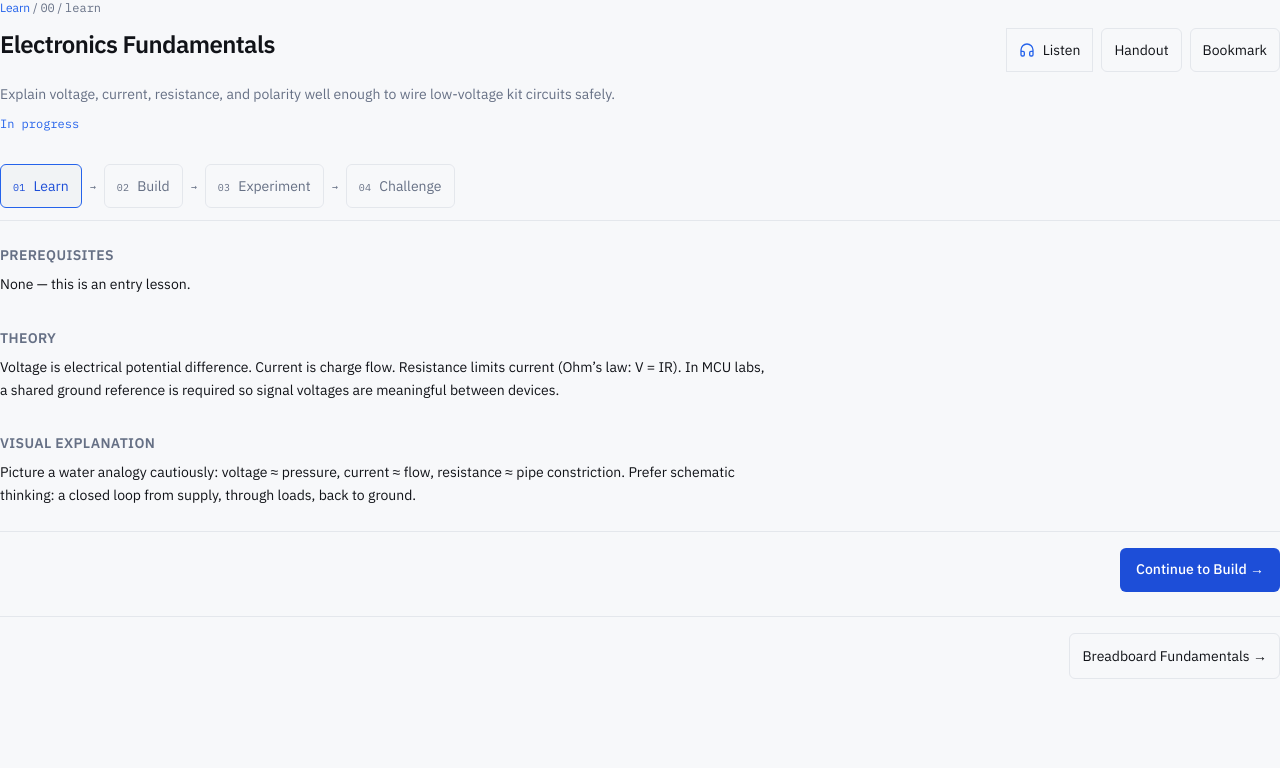
Test case: learning UI › walks Learn → Build → Challenge flow and persists quiz progress
expect the heading "Electronics Fundamentals" is shown: met, box 0,28 -> 275,60
expect the heading "Theory" is shown: met, box 0,329 -> 56,347
Step 1. Click the button "02Build" → [143, 186], box 104,164 -> 183,208
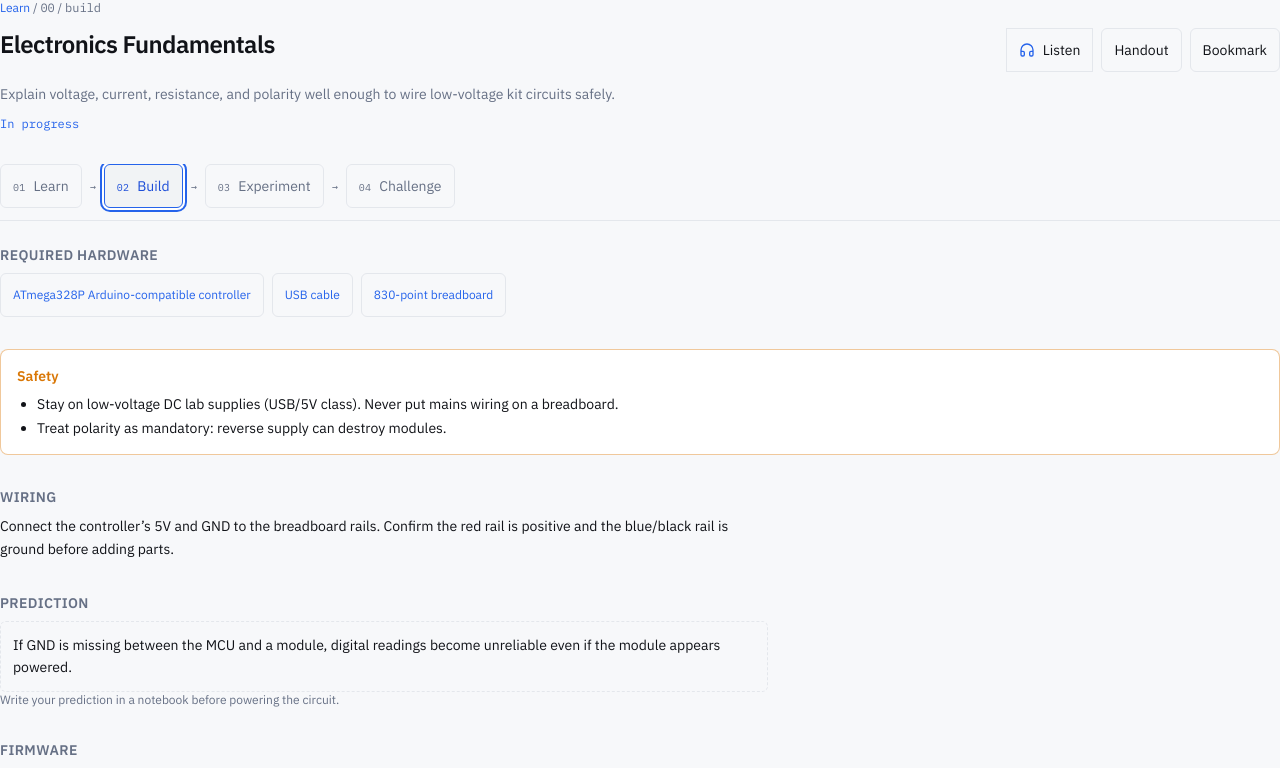
expect the heading "Prediction" is shown: met, box 0,594 -> 89,612
Step 2. Click the button "04Challenge" → [400, 186], box 346,164 -> 455,208
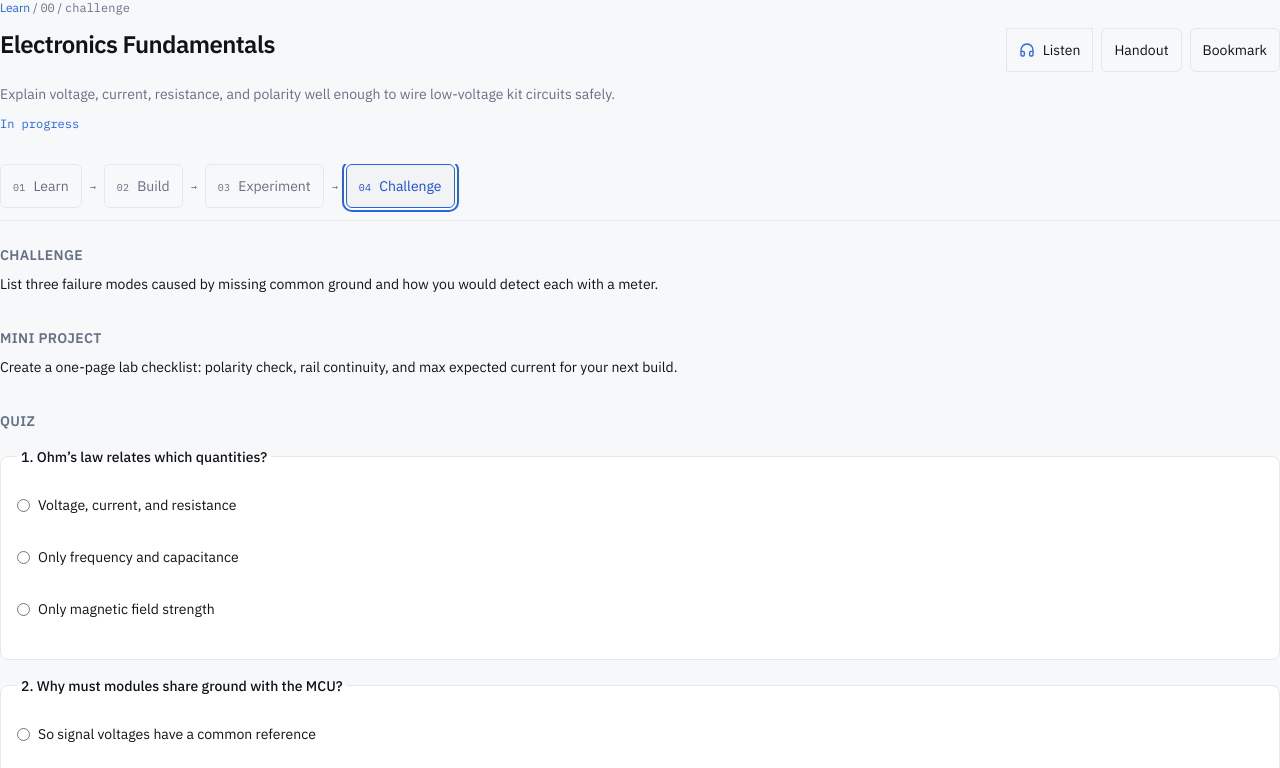
Step 3. Click the radio button labelled "Voltage, current, and resistance" → [24, 505], box 17,498 -> 30,512
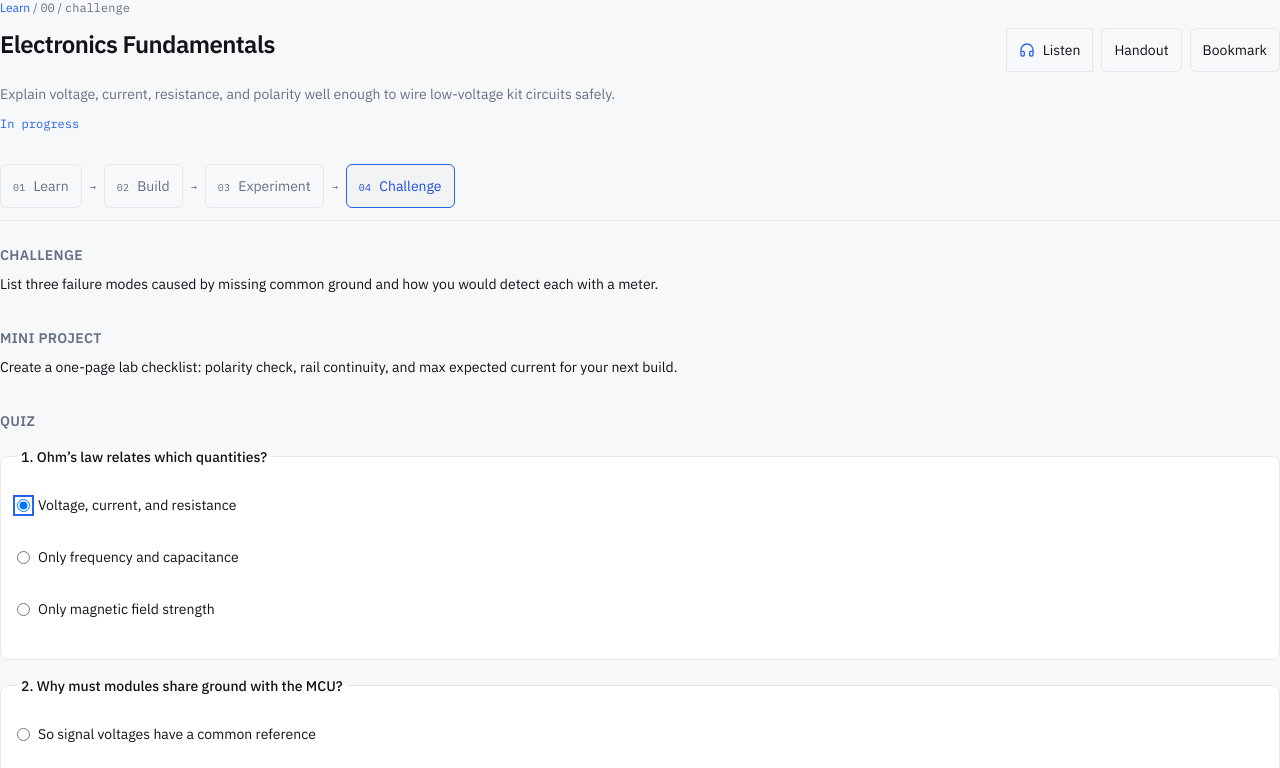
Step 4. Click the radio button labelled "So signal voltages have a common reference" → [24, 734], box 17,728 -> 30,740
(page scrolled)
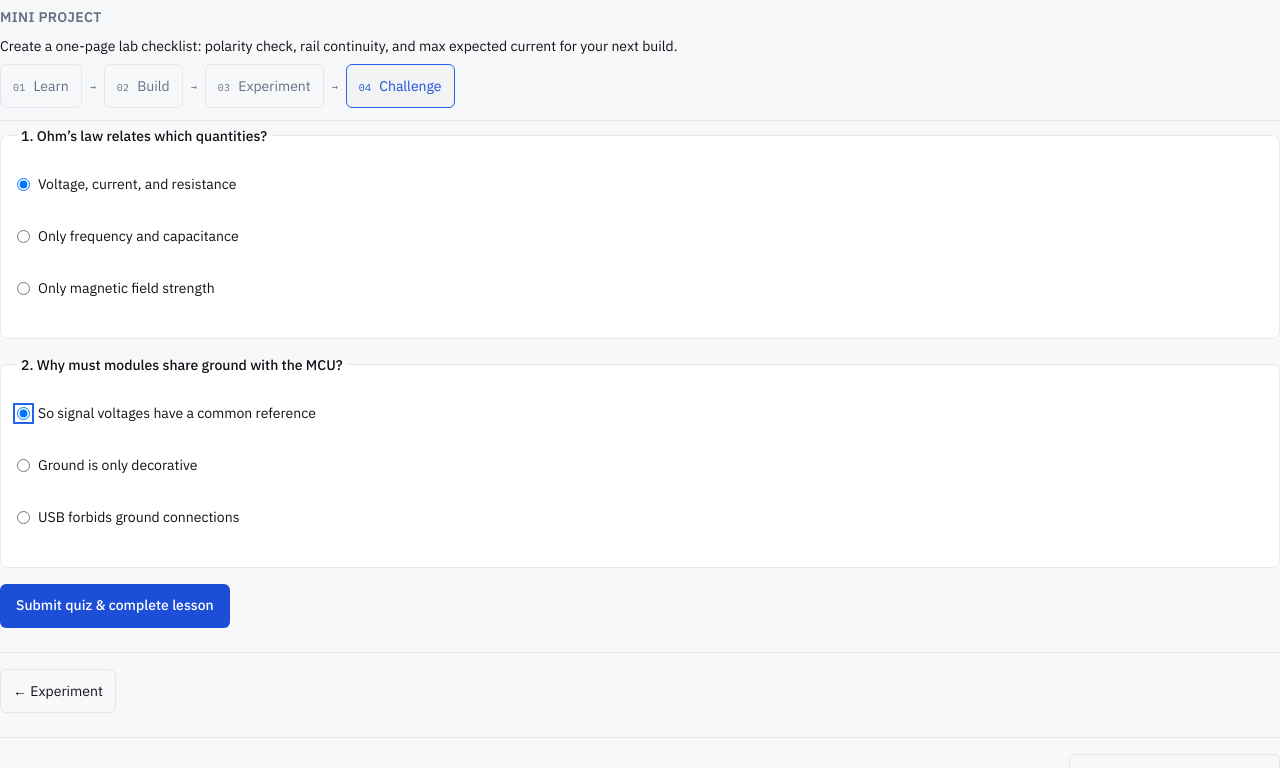
Step 5. Click the button "Submit quiz & complete lesson" → [115, 606], box 0,584 -> 230,628
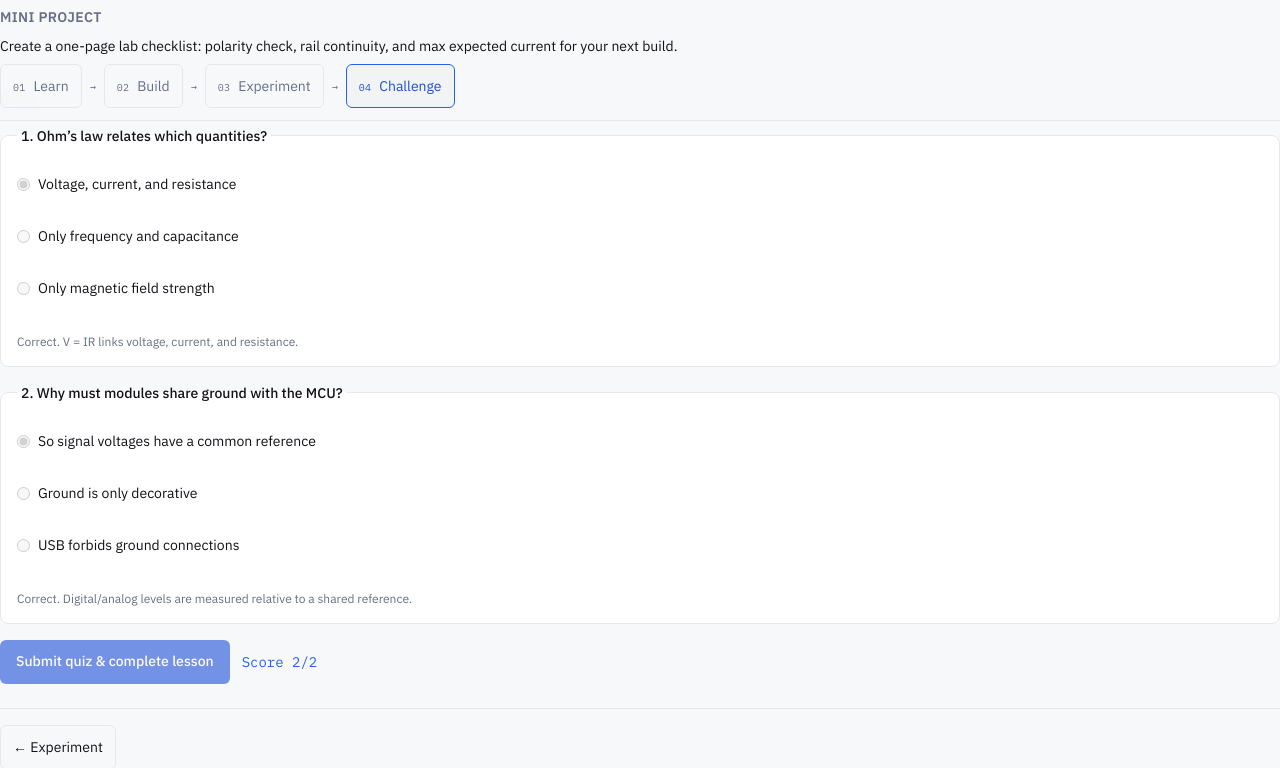
expect the text "Score 2/2" is shown: met, box 242,652 -> 317,672
